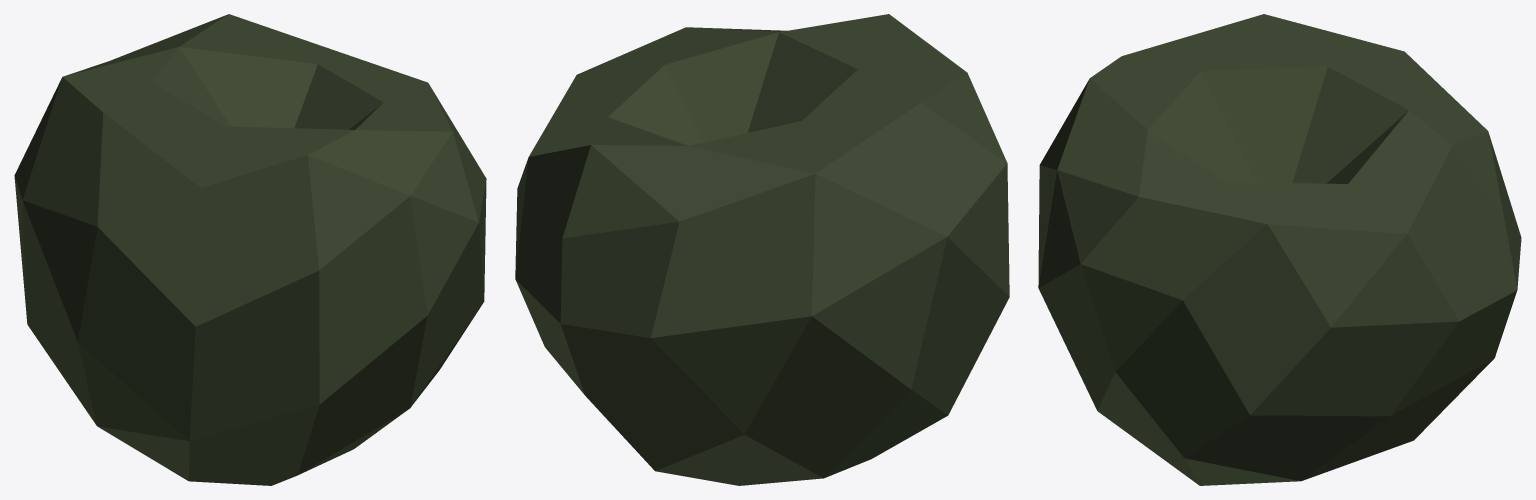
File: EA_Swamp_Fruit_03b.glb
3 renders of one model, left to right at view 1: azimuth 30°, elevation 25°; view 2: azimuth 150°, elevation 25°; view 3: azimuth 270°, elevation 25°, orthographic. The views are drawn at different scales.
Visible parts, largest first — view 1: EA_Swamp_Fruit_03b; view 2: EA_Swamp_Fruit_03b; view 3: EA_Swamp_Fruit_03b.
Boxes of the visible parts, box(x1,y1,x2,y2) form: EA_Swamp_Fruit_03b: box(14, 14, 486, 485); EA_Swamp_Fruit_03b: box(515, 14, 1009, 485); EA_Swamp_Fruit_03b: box(1038, 14, 1521, 485).
Bounding box in the file's own units: 0.2754 × 0.2534 × 0.2836.
Materials: 1 (1 with a texture image).
